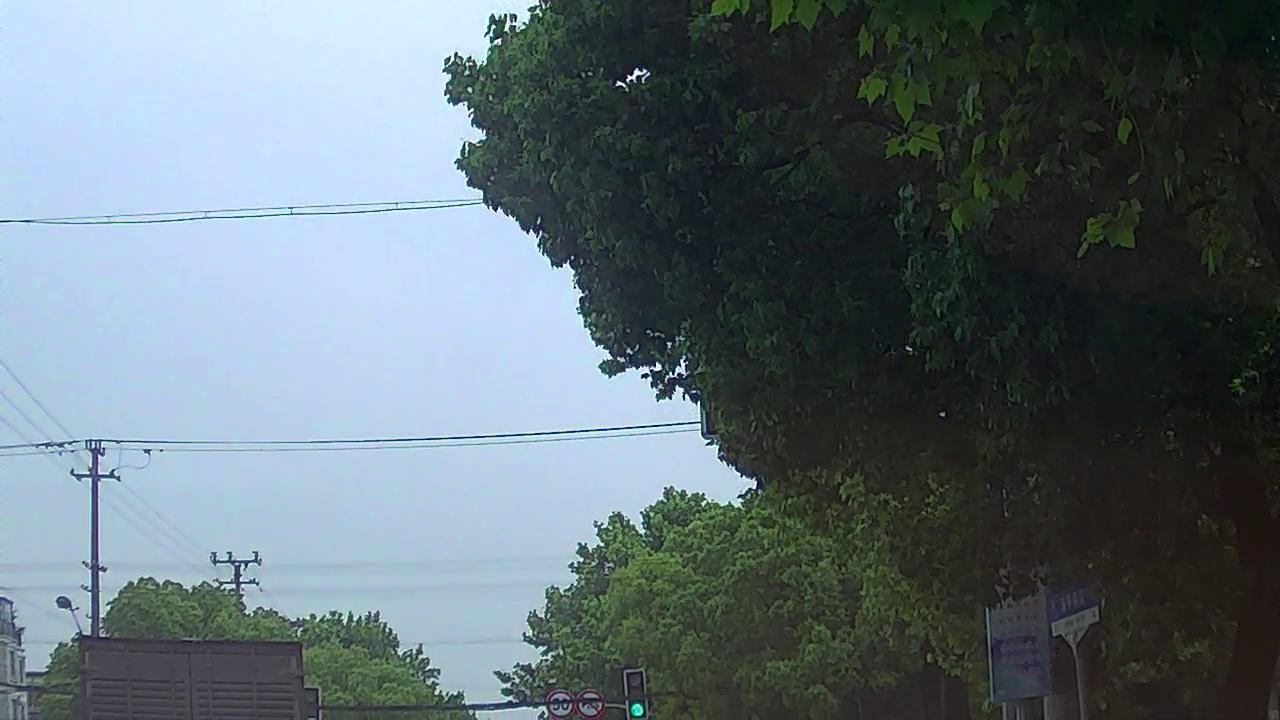traffic_light: (625, 668, 648, 718)
